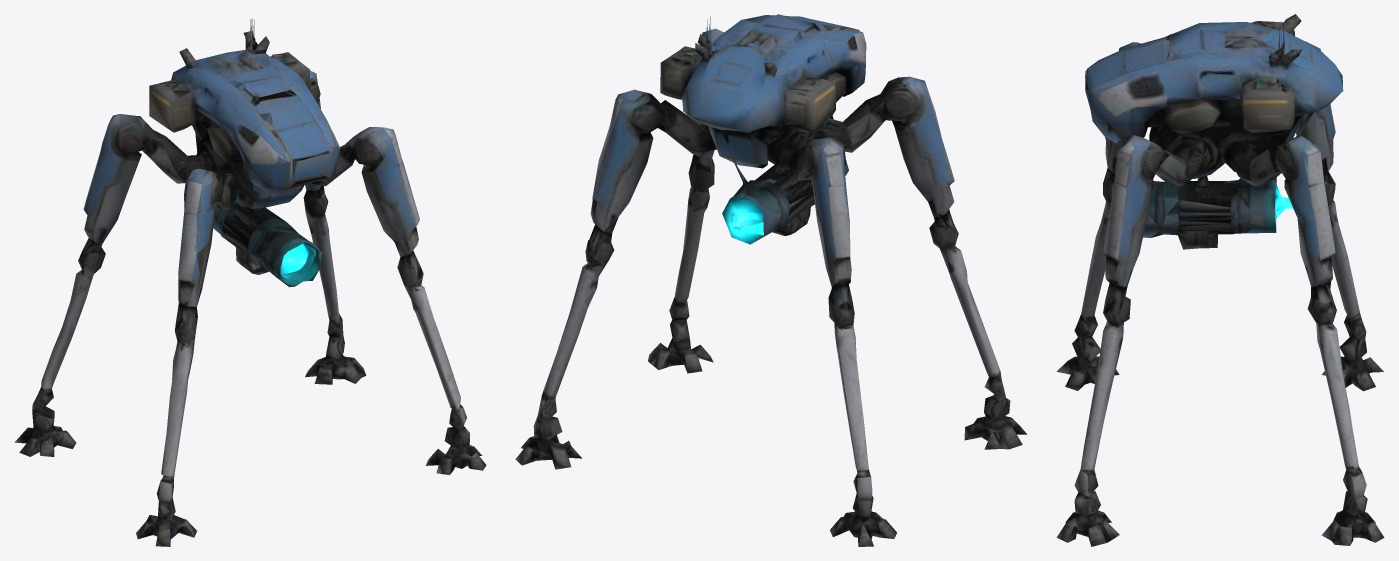
The model's file is unit_reaper.glb.
3 views of the same model, side by side, from view 1: azimuth 30°, elevation 25°; view 2: azimuth 150°, elevation 25°; view 3: azimuth 270°, elevation 25° (orthographic). The views are drawn at different scales.
Parts seen in each view (by area): view 1: unit_reaper; view 2: unit_reaper; view 3: unit_reaper.
Part boxes in pixels (x1,y1,x2,y2): unit_reaper: (14,18,486,546); unit_reaper: (515,14,1026,546); unit_reaper: (1056,14,1384,546).
Bounding box in the file's own units: 0.8732 × 1 × 0.66.
Materials: 1 (1 with a texture image).
